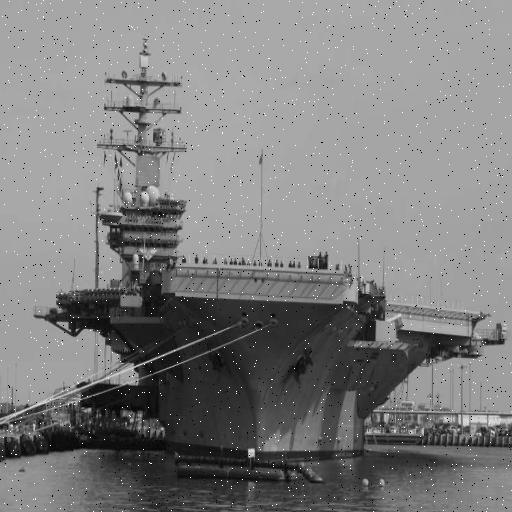Portanaves: (31, 12, 512, 483)
